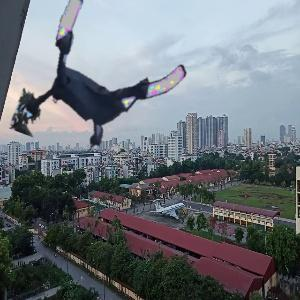drone: (30, 10, 181, 161)
